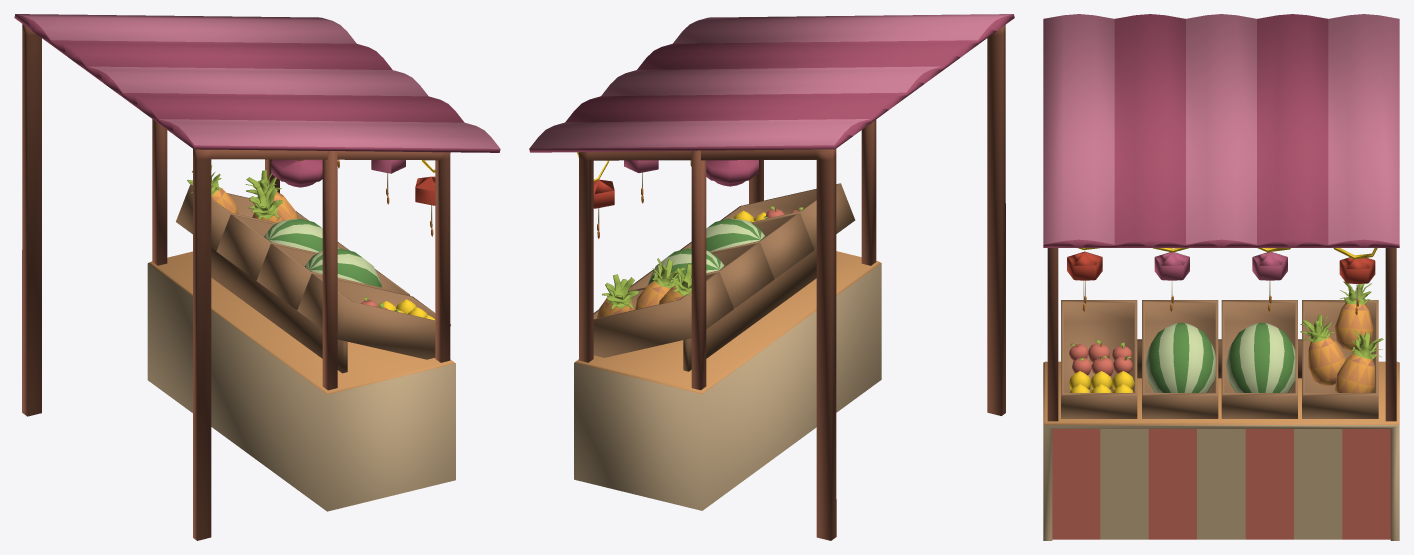
File: Store_02.glb
3 views of the same model, side by side, from view 1: azimuth 30°, elevation 25°; view 2: azimuth 150°, elevation 25°; view 3: azimuth 270°, elevation 25° (orthographic).
Parts seen in each view (by area): view 1: Store_02; view 2: Store_02; view 3: Store_02.
Boxes of the visible parts, bbox=[...] form: Store_02: bbox=[14, 14, 500, 540]; Store_02: bbox=[529, 14, 1014, 540]; Store_02: bbox=[1043, 14, 1399, 540].
Size of what is drawn, in the model's own units: 2.71 by 3.4 by 2.74.
Materials: 1 (1 with a texture image).
